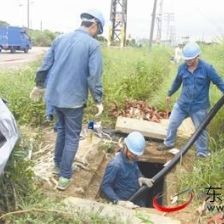helmet: (124, 129, 148, 165), (79, 6, 105, 39), (180, 41, 204, 71)
